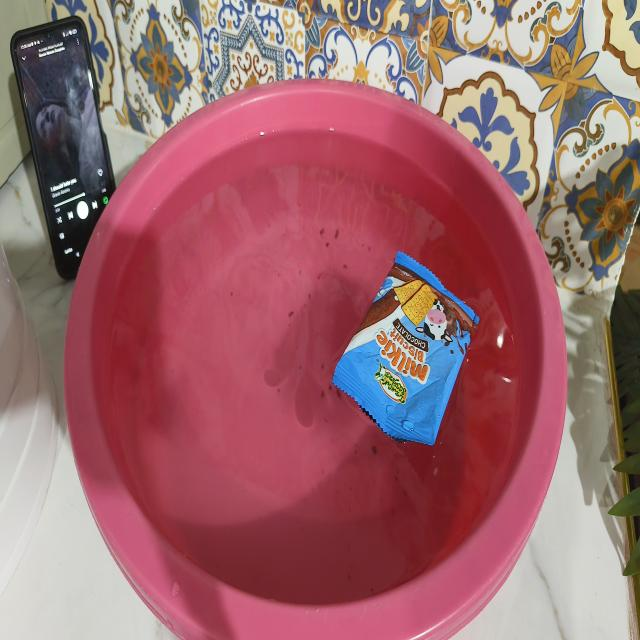Plastic Wrapper: (332, 251, 480, 446)
